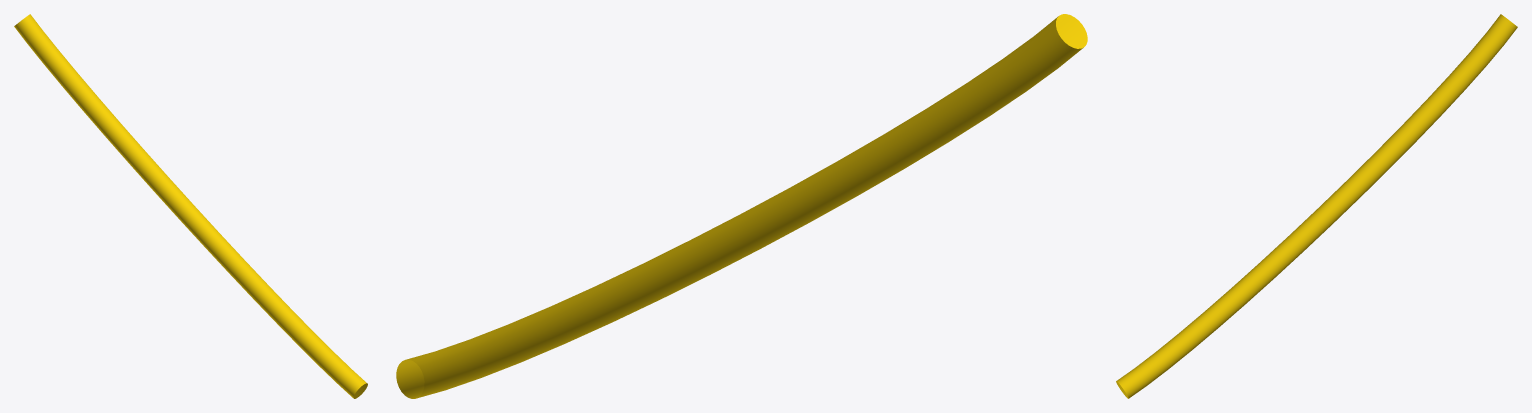
The model's file is Event_421115418_track_14.fbx.
The picture shows the model from 3 angles, left to right: view 1: azimuth 30°, elevation 25°; view 2: azimuth 210°, elevation 25°; view 3: azimuth 270°, elevation 25°; orthographic projection. The views are drawn at different scales.
Visible parts, largest first — view 1: Model; view 2: Model; view 3: Model.
Boxes of the visible parts, box(x1,y1,x2,y2) form: Model: box(14, 14, 367, 398); Model: box(396, 14, 1087, 398); Model: box(1116, 14, 1517, 398).
Size of the model in its own units: 0.3844 by 0.6187 by 0.7384.
